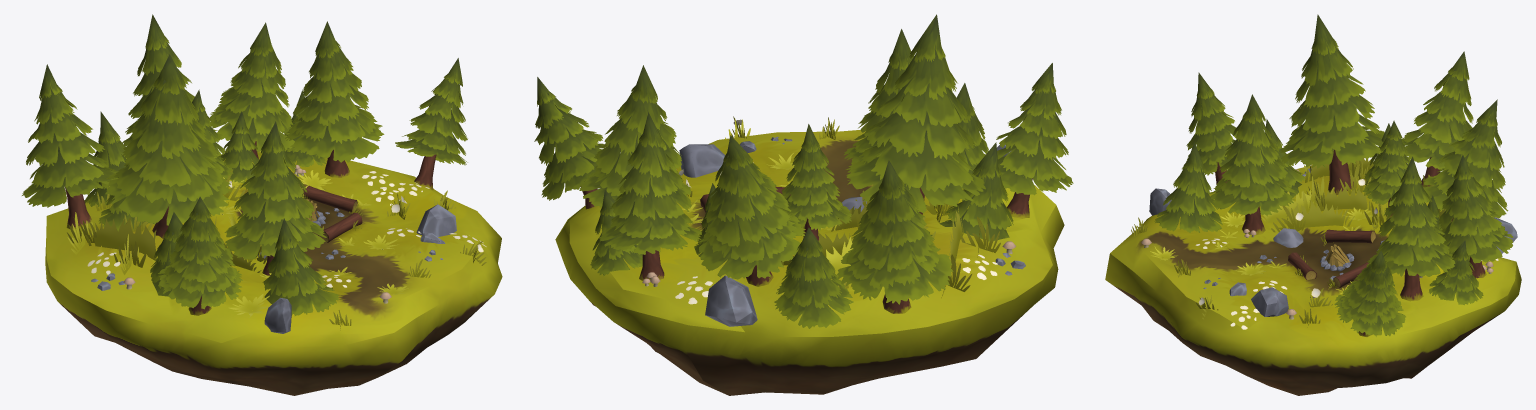
File: test forest.fbx
The picture shows the model from 3 angles, left to right: view 1: azimuth 30°, elevation 25°; view 2: azimuth 150°, elevation 25°; view 3: azimuth 270°, elevation 25°; orthographic projection. The views are drawn at different scales.
Parts seen in each view (by area): view 1: Forest; view 2: Forest; view 3: Forest.
Part boxes in pixels (x1=…): Forest: x1=22, y1=14, x2=502, y2=395; Forest: x1=534, y1=14, x2=1073, y2=395; Forest: x1=1105, y1=14, x2=1521, y2=395.
Size of the model in its own units: 510 by 384 by 490.
